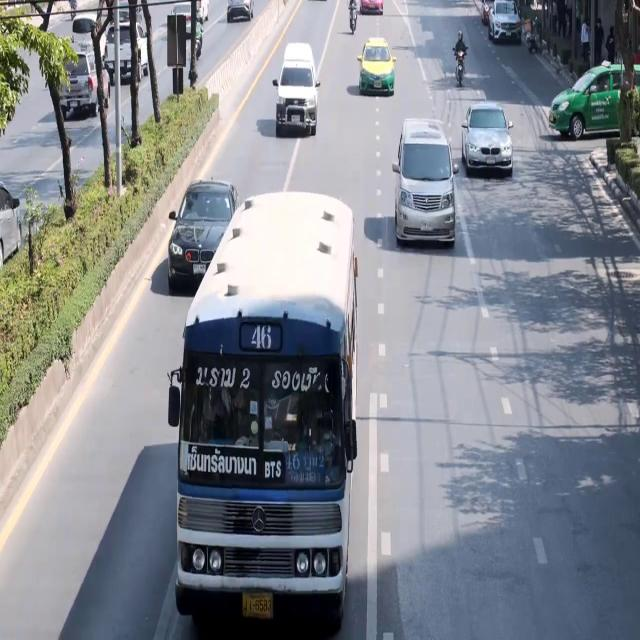bike: (453, 31, 469, 86), (347, 0, 359, 36)
bus: (185, 201, 357, 622)
car: (399, 118, 456, 248), (165, 178, 236, 282), (546, 63, 629, 139), (461, 100, 514, 177), (274, 43, 319, 131), (356, 37, 398, 94), (487, 0, 524, 42), (226, 2, 252, 24), (359, 0, 384, 14)
